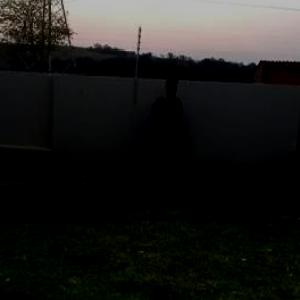follow: (148, 75, 183, 193)
